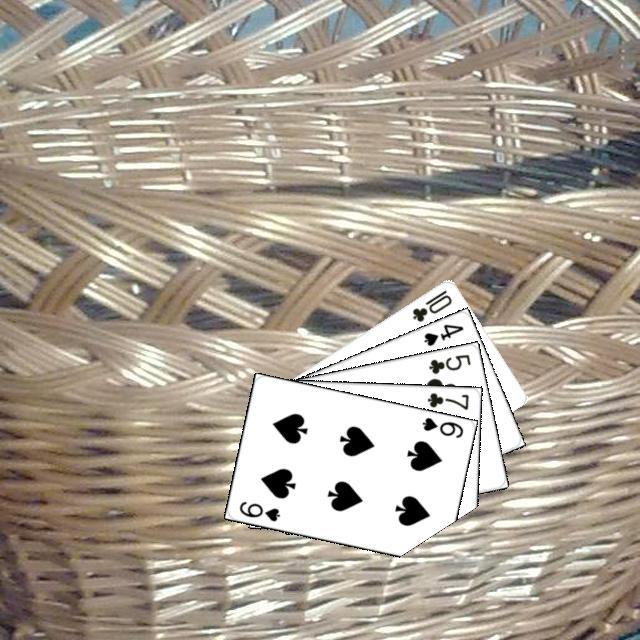10c: (407, 285, 454, 324)
4s: (419, 319, 465, 348)
5c: (424, 349, 472, 376)
6s: (417, 412, 465, 439), (234, 496, 282, 523)
7c: (422, 388, 470, 412)
